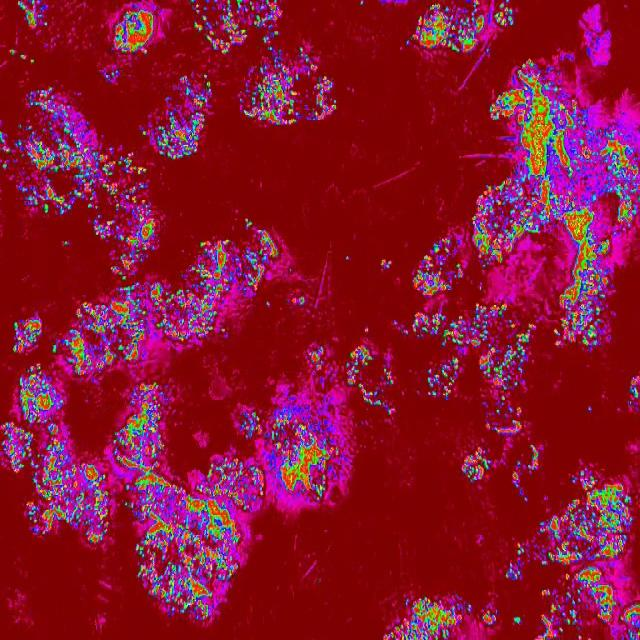fire: (471, 61, 640, 270), (122, 477, 243, 628), (68, 280, 184, 378), (184, 219, 278, 335), (16, 86, 96, 220), (17, 364, 68, 542), (240, 48, 339, 128), (268, 406, 343, 502), (139, 72, 215, 162), (405, 298, 518, 352), (112, 380, 173, 474), (556, 268, 618, 358), (537, 511, 631, 567), (402, 0, 486, 58), (189, 0, 285, 49), (95, 145, 136, 244), (65, 455, 109, 544), (380, 595, 461, 640), (412, 236, 464, 298), (564, 464, 628, 510), (476, 350, 532, 396), (112, 5, 158, 56), (536, 586, 576, 640), (578, 570, 616, 621), (484, 397, 526, 438), (458, 443, 493, 488), (136, 163, 155, 245), (423, 356, 458, 399), (110, 244, 154, 276), (358, 385, 396, 419), (346, 342, 372, 388), (10, 316, 43, 352), (242, 460, 264, 514), (16, 0, 50, 30), (616, 601, 640, 640), (506, 463, 528, 505), (0, 418, 16, 474), (240, 405, 262, 440), (503, 543, 524, 579), (206, 456, 240, 476), (492, 0, 514, 30), (518, 321, 536, 350), (8, 46, 36, 62), (528, 439, 542, 471), (629, 372, 640, 408), (310, 348, 326, 372), (481, 610, 498, 628), (0, 131, 10, 155), (381, 368, 395, 383), (105, 68, 119, 82), (380, 258, 392, 272), (290, 292, 304, 304), (51, 340, 58, 358), (342, 254, 352, 264), (586, 404, 594, 415), (358, 0, 368, 8), (466, 603, 472, 615), (3, 159, 8, 173), (364, 325, 372, 333), (564, 572, 570, 582), (62, 237, 69, 245), (514, 616, 520, 625)
